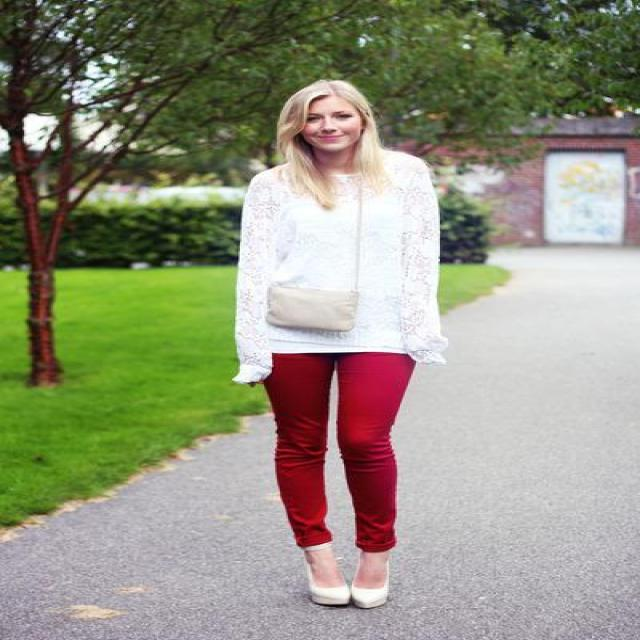bag: (266, 281, 358, 338)
pants: (261, 352, 414, 551)
shirt: (232, 149, 453, 383)
shoe: (310, 576, 390, 609)
